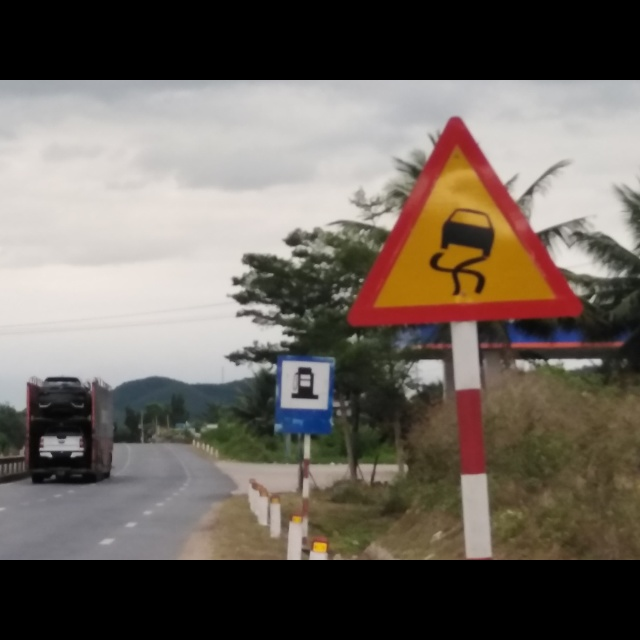Đường trơn trượt: (339, 109, 587, 324)
